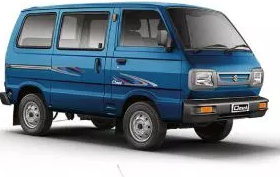car: (1, 1, 273, 165)
